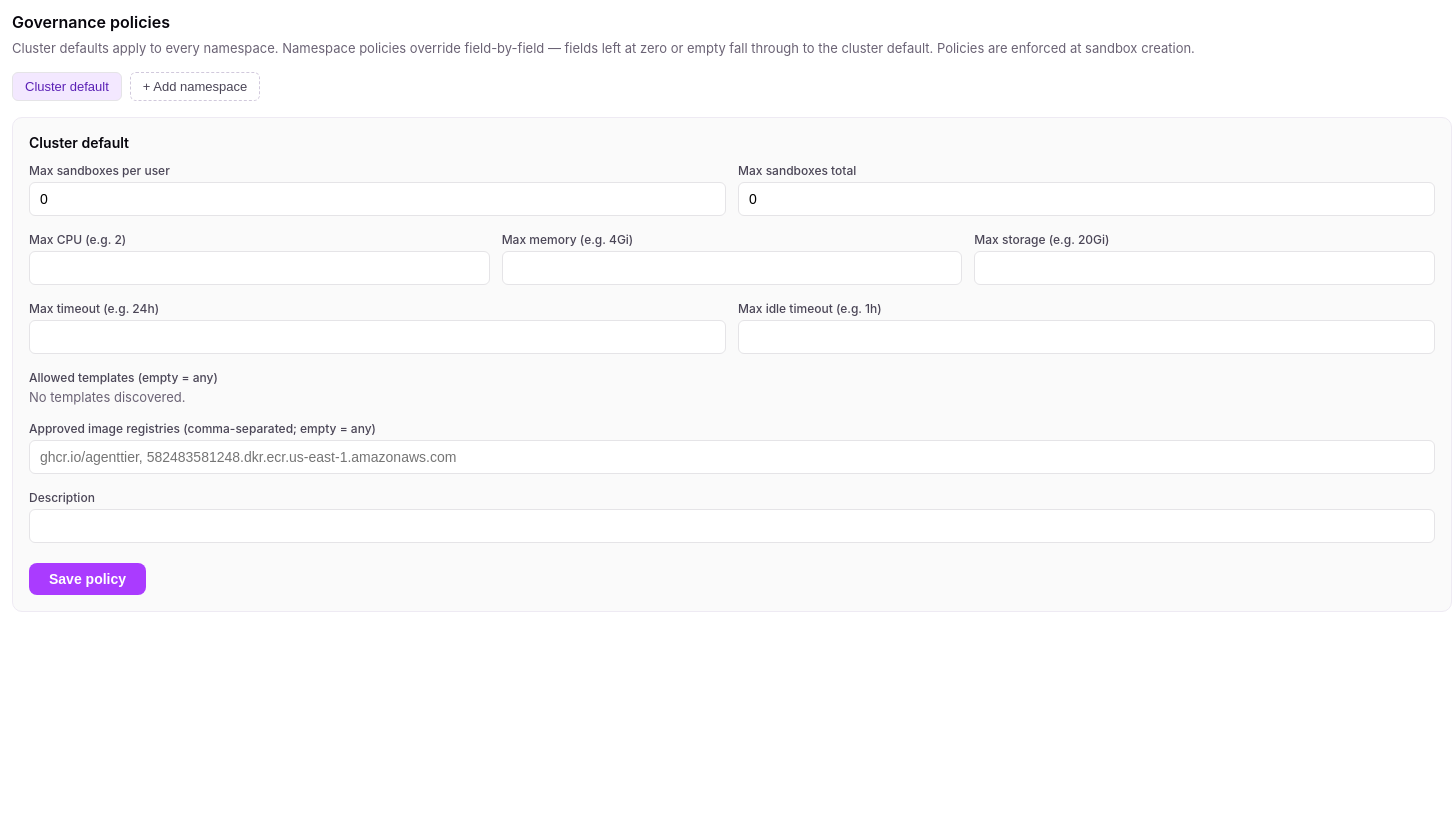
Test case: GovernanceEditor › saves the cluster policy and shows a confirmation
This screenshot has width=1452, height=822.
expect the heading "Governance policies" is shown: met, box [12,12,170,32]
Replace the text in the number field below "Max sandboxes per user" with "7" at [378, 199], box [29,182,726,216]
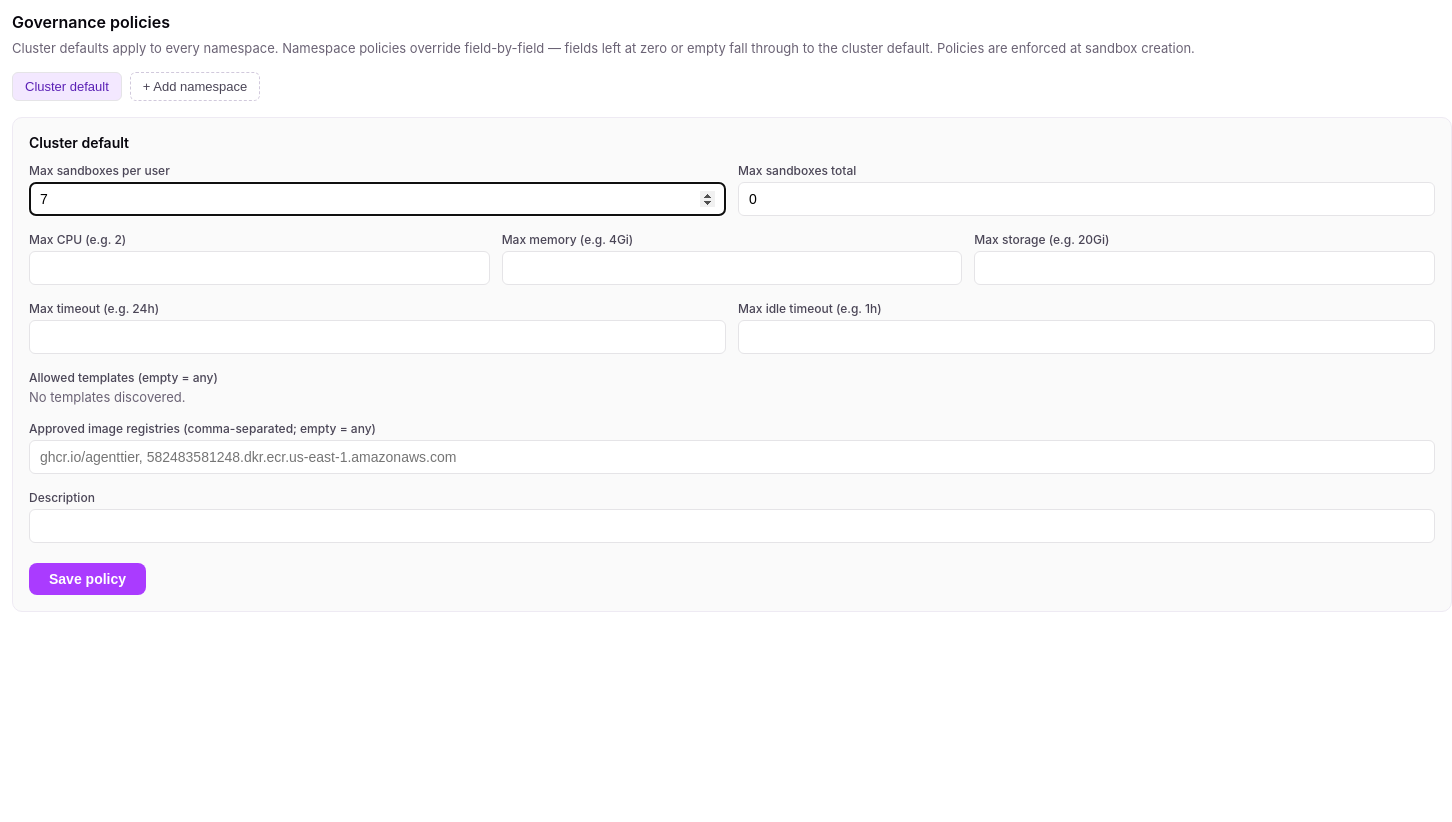
Click the button "Save policy" at [88, 579], box [29,563,146,595]
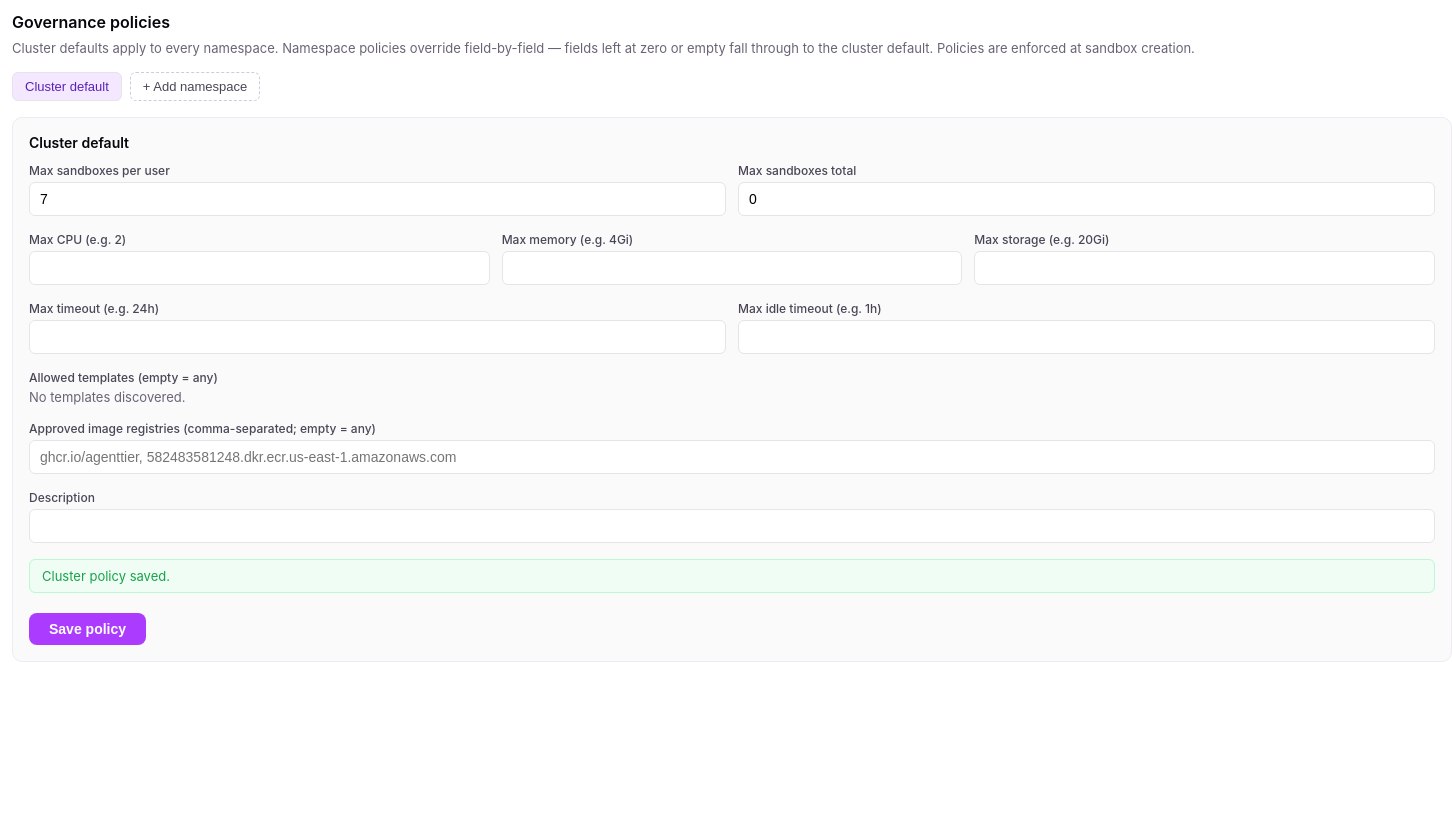
expect the text "Cluster policy saved." is shown: met, box [29,559,1435,593]
